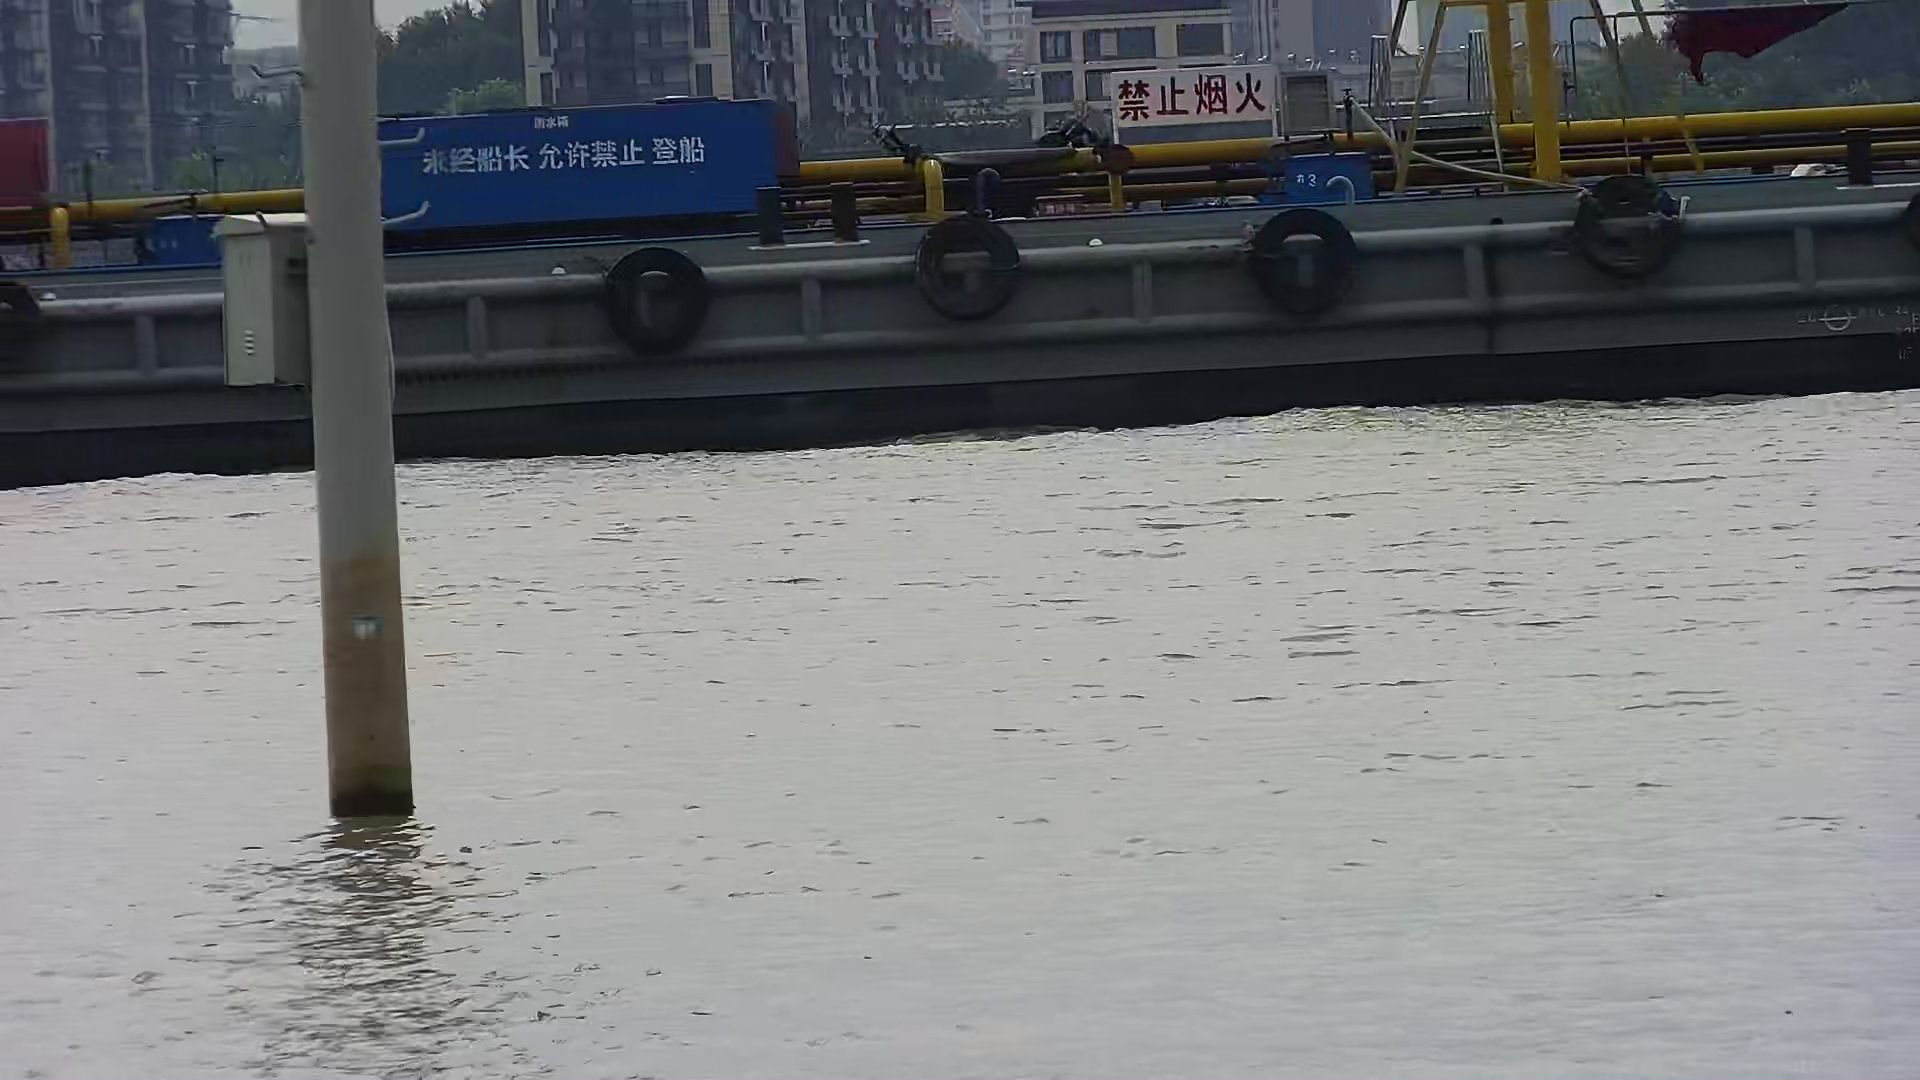mast: (295, 1, 414, 832)
ship: (1, 1, 1920, 491)
